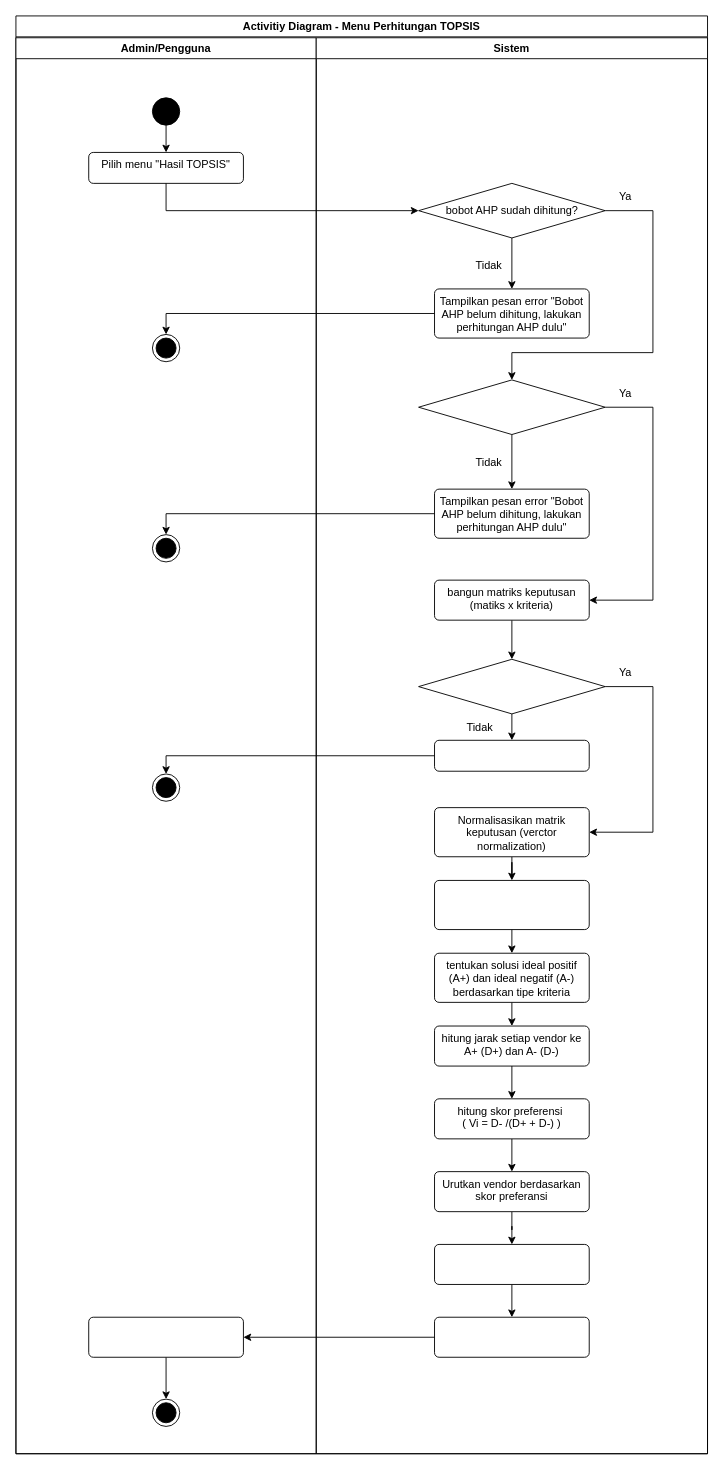
Image size: 723x1470. Some labels were removed from this diagram. Each missing label, with the centre of its shape:
bangun matrik ternormalisasikan terbobot (x bobot AHP): (511,905)
data vendor > 2 atau data kriteria > 2: (511,407)
Melihat Hasil rangking dan rekomendasi: (165,1336)
Simpan hasil rangking ke database: (511,1264)
Tampilkan Pesan Error "Penilaian belum lengkap": (511,755)
tampilkan tabel rengking dan rekomendasi vendor terbaik: (511,1336)
terdapat nilai kosong atau = 0?: (511,686)
